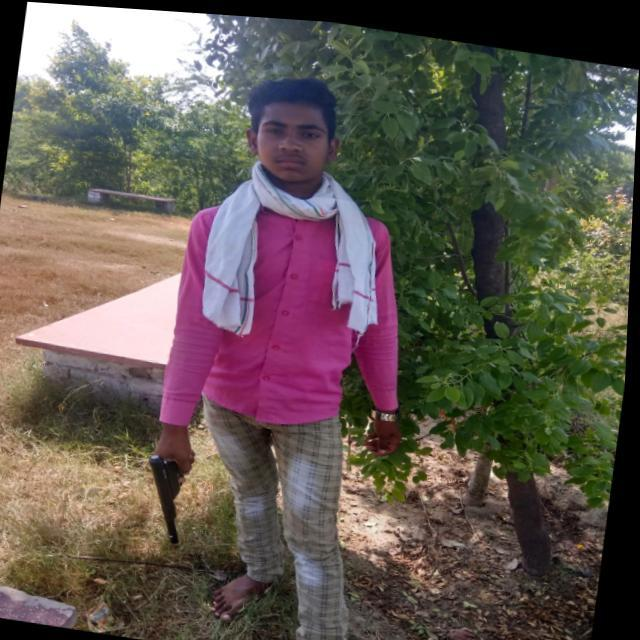weapon: (136, 440, 208, 550)
